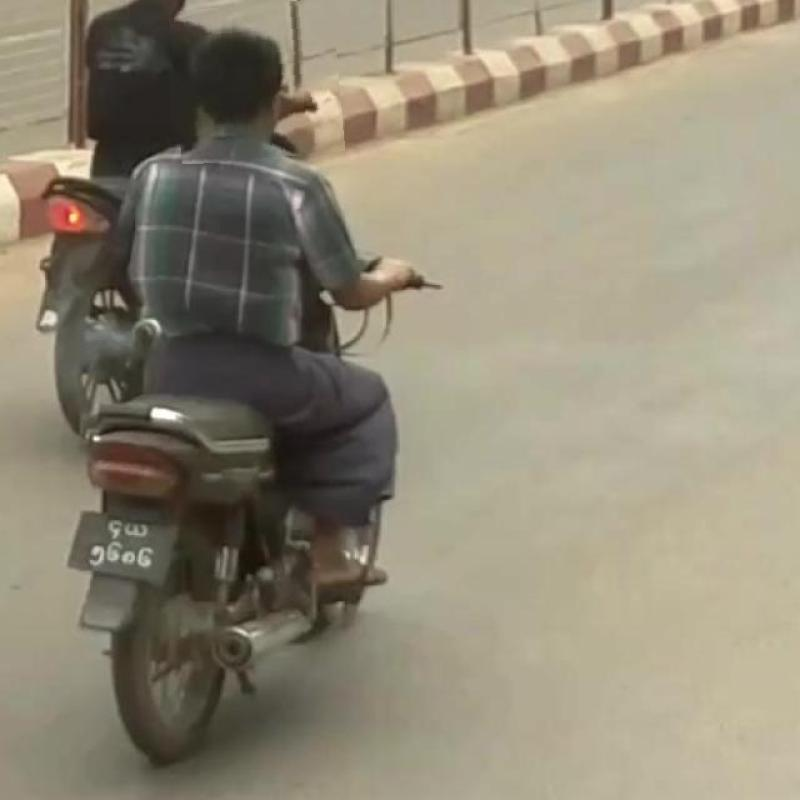nohelmet: (172, 1, 342, 162)
